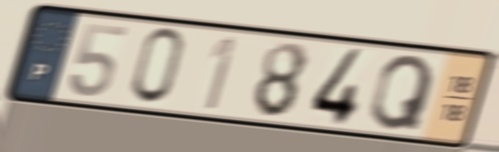0: (127, 25, 187, 108)
1: (202, 33, 241, 114)
4: (308, 45, 367, 129)
5: (65, 20, 131, 99)
8: (251, 40, 311, 120)
Q: (367, 53, 438, 134)
